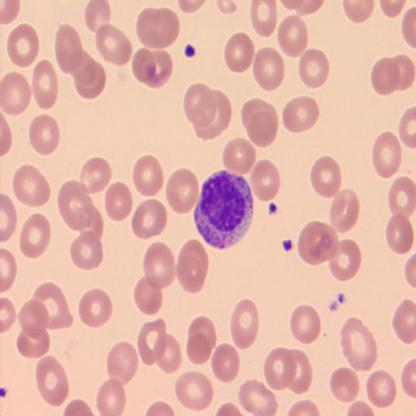Metamyelocyte: (191, 168, 256, 252)
